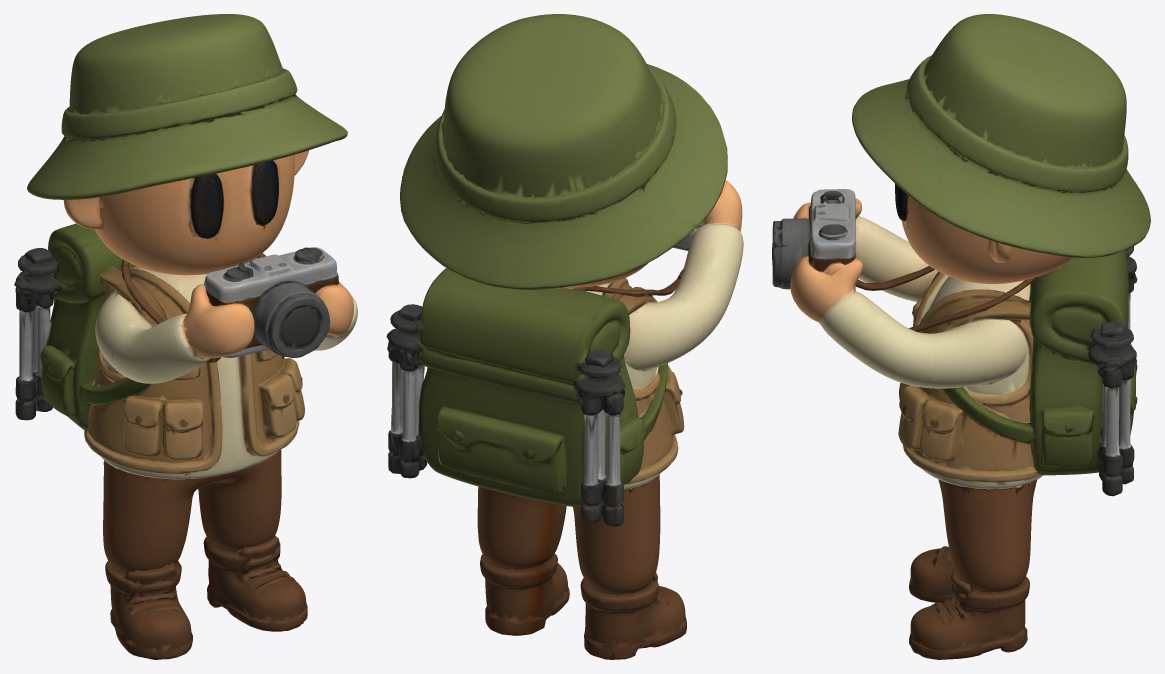
File: photographer.glb
3 renders of one model, left to right at view 1: azimuth 30°, elevation 25°; view 2: azimuth 150°, elevation 25°; view 3: azimuth 270°, elevation 25°, orthographic. The views are drawn at different scales.
Parts seen in each view (by area): view 1: tripo_node_7be68bdc-8989-46cd-9aff-ef7b08f436c2; view 2: tripo_node_7be68bdc-8989-46cd-9aff-ef7b08f436c2; view 3: tripo_node_7be68bdc-8989-46cd-9aff-ef7b08f436c2.
Boxes of the visible parts, left/top/right/bottom form: tripo_node_7be68bdc-8989-46cd-9aff-ef7b08f436c2: left=14, top=14, right=357, bottom=659; tripo_node_7be68bdc-8989-46cd-9aff-ef7b08f436c2: left=386, top=14, right=743, bottom=659; tripo_node_7be68bdc-8989-46cd-9aff-ef7b08f436c2: left=772, top=14, right=1150, bottom=659.
Bounding box in the file's own units: 0.4935 × 0.9796 × 0.573.
1 material, 1 textured.
